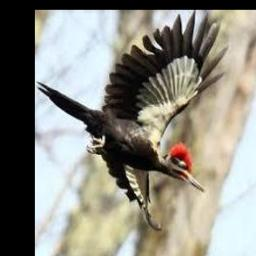Woodpecker: (37, 10, 228, 230)
